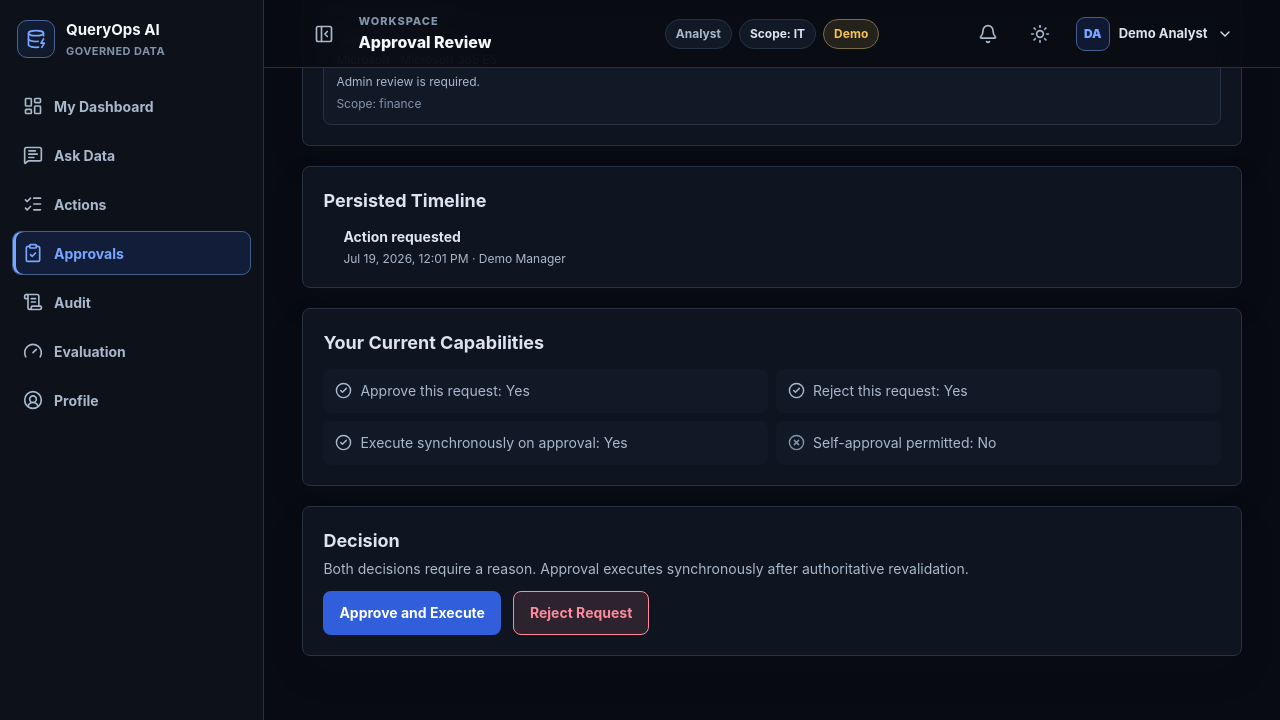
Test: ApprovalDetailPage › shows a completed authoritative result and locks decision controls
This screenshot has width=1280, height=720.
(page scrolled)
Click the button "Approve and Execute" at {"x": 412, "y": 613}, box [323,591,501,635]
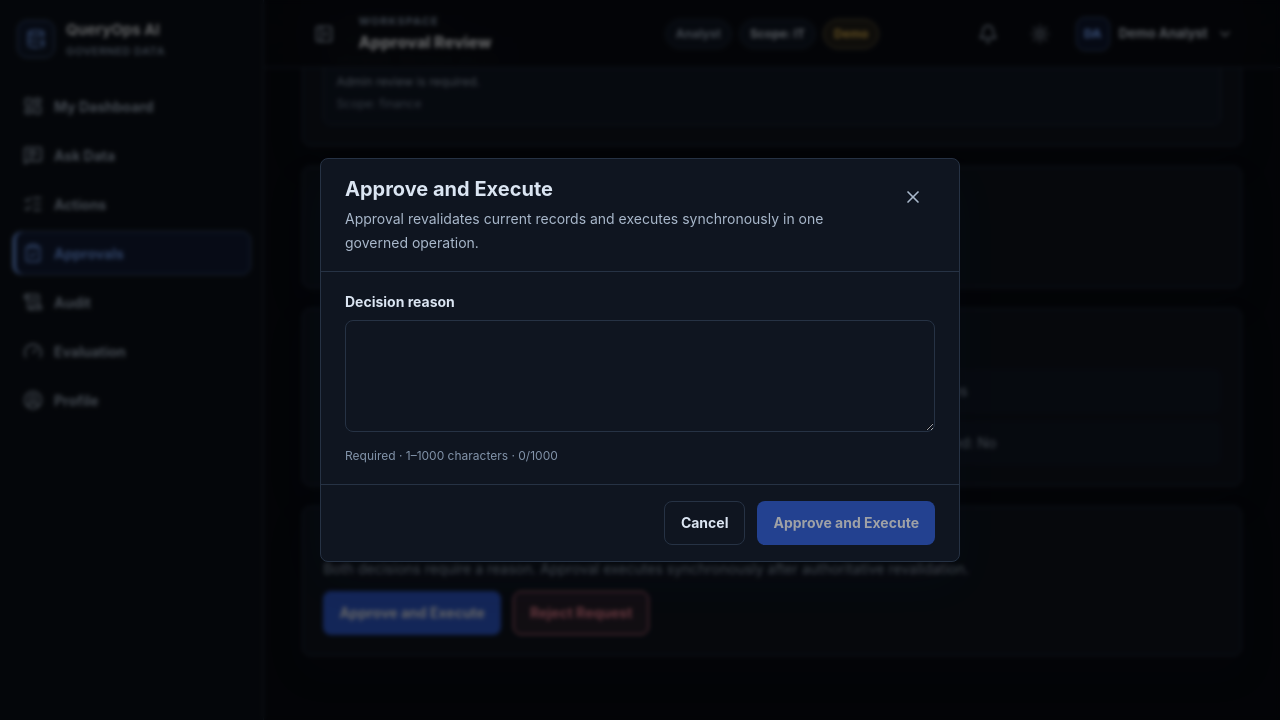
Type "Current records reviewed" into the text box labelled "Decision reason" at {"x": 640, "y": 376}, box [345,320,935,432]
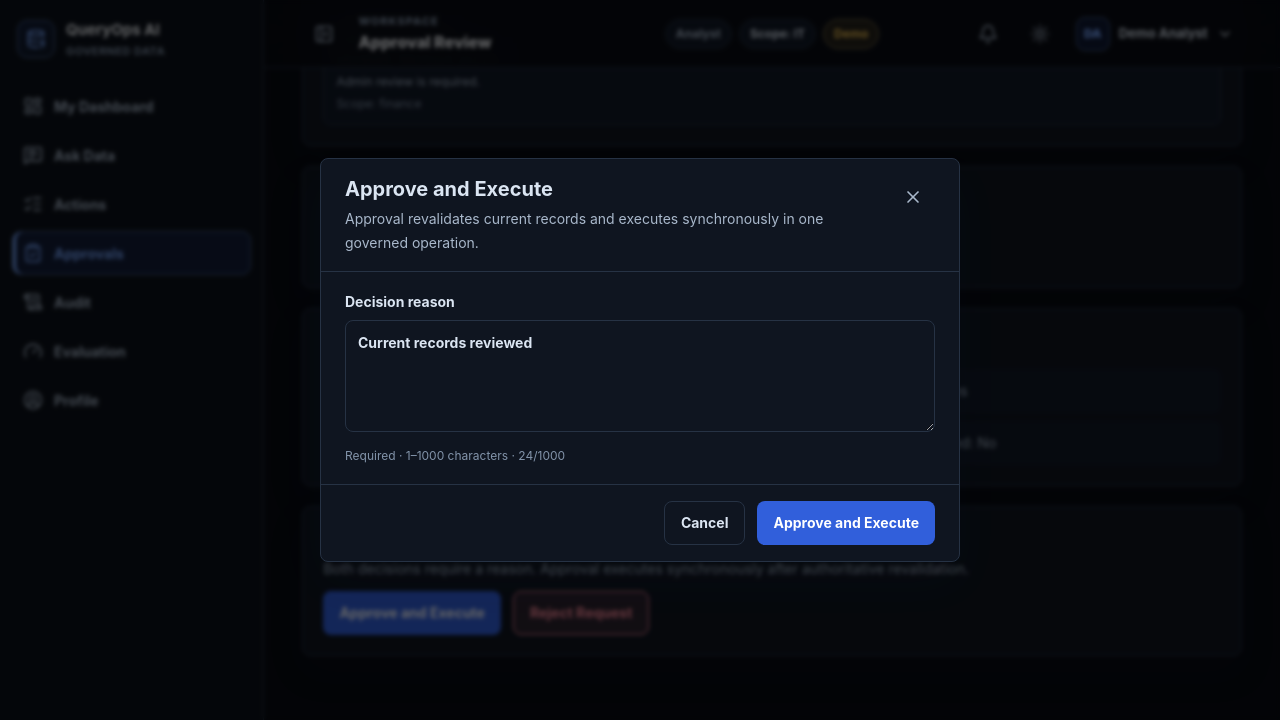
Click the button "Approve and Execute" at {"x": 846, "y": 523}, box [758,501,935,545]
(page scrolled)
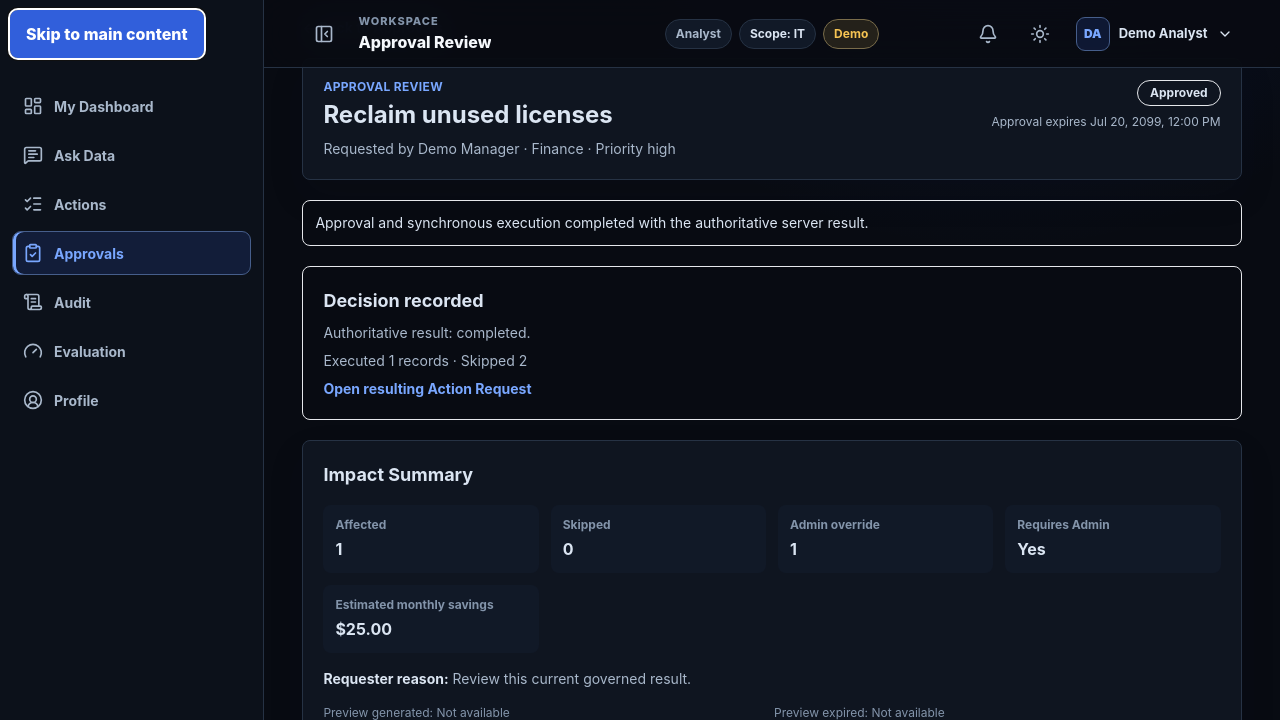
expect the heading "Decision recorded" is shown: met, box [323,290,484,311]
expect the text "Executed 1 records · Skipped 2" is shown: met, box [323,352,527,369]
expect the button "Approve and Execute" is gone: met
